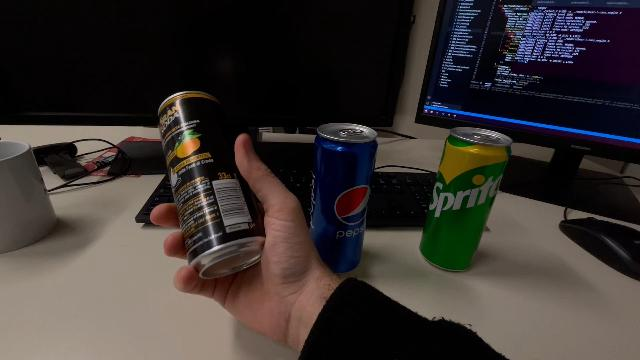OranSoda: (155, 87, 267, 281)
Pepsi: (308, 121, 378, 277)
Sprite: (418, 125, 514, 274)
